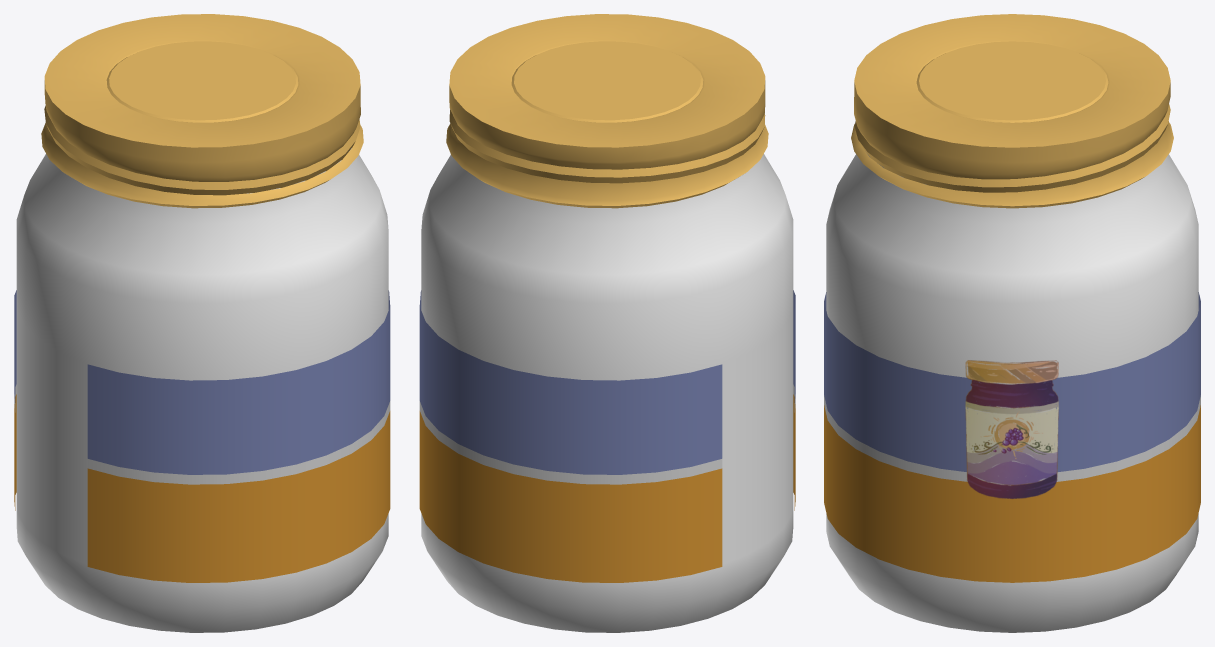
The model's file is JellyJar2.glb.
The picture shows the model from 3 angles, left to right: view 1: azimuth 30°, elevation 25°; view 2: azimuth 150°, elevation 25°; view 3: azimuth 270°, elevation 25°; orthographic projection.
Parts seen in each view (by area): view 1: Jar, Label, Lid; view 2: Jar, Label, Lid; view 3: Jar, Label, Lid, Logo.
Part boxes in pixels (x1=…): Jar: x1=16, y1=148, x2=388, y2=632; Label: x1=14, y1=290, x2=390, y2=582; Lid: x1=41, y1=14, x2=363, y2=208; Jar: x1=421, y1=154, x2=793, y2=632; Label: x1=419, y1=290, x2=795, y2=582; Lid: x1=446, y1=14, x2=768, y2=208; Jar: x1=826, y1=154, x2=1198, y2=632; Label: x1=824, y1=292, x2=1200, y2=582; Lid: x1=851, y1=14, x2=1173, y2=208; Logo: x1=965, y1=360, x2=1058, y2=498.
Bounding box in the file's own units: 2.02 × 2.85 × 2.02.
Materials: 7 (1 with a texture image).
